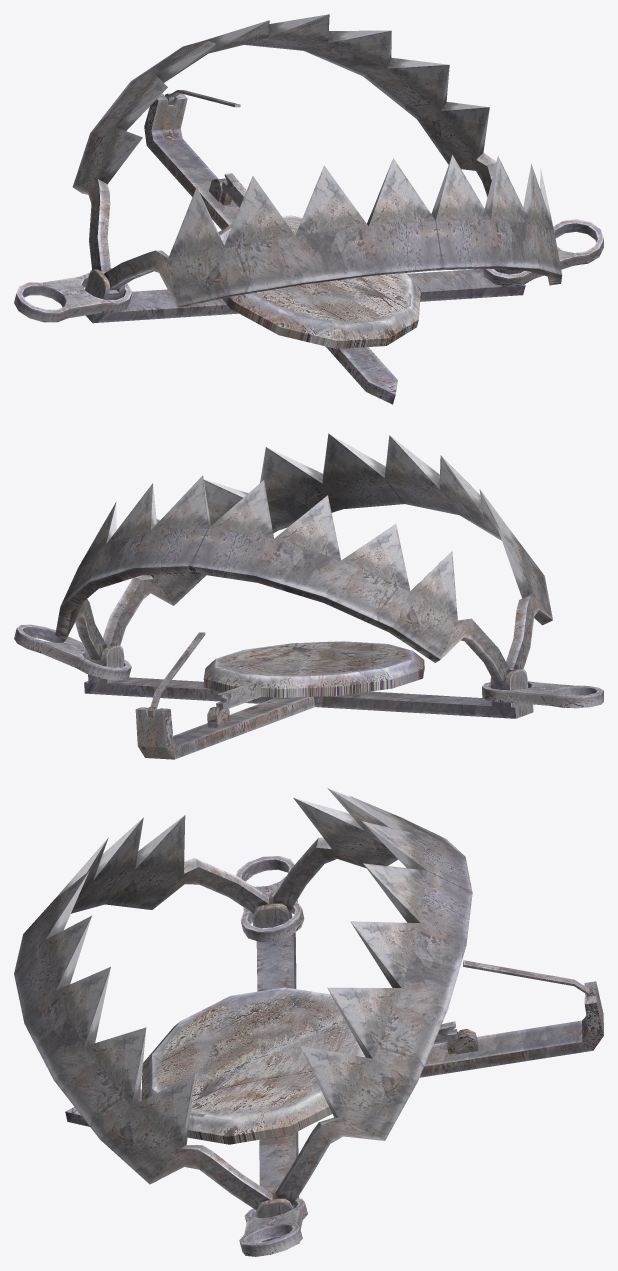
The picture shows the model from 3 angles, top to bottom: view 1: azimuth 30°, elevation 25°; view 2: azimuth 150°, elevation 25°; view 3: azimuth 270°, elevation 25°; orthographic projection. The views are drawn at different scales.
Visible parts, largest first — view 1: Trap_LeftSide, Trap_RightSide, Trap_Cross, Trap_Center, Trap_1, Trap_4; view 2: Trap_RightSide, Trap_LeftSide, Trap_Cross, Trap_Center, Trap_1, Trap_4, Trap_3; view 3: Trap_RightSide, Trap_LeftSide, Trap_Center, Trap_Cross, Trap_1, Trap_3.
Boxes of the visible parts, bbox=[...] form: Trap_LeftSide: bbox=[104, 155, 562, 307]; Trap_RightSide: bbox=[72, 14, 496, 273]; Trap_Cross: bbox=[84, 93, 525, 404]; Trap_Center: bbox=[218, 215, 420, 348]; Trap_1: bbox=[14, 219, 603, 322]; Trap_4: bbox=[220, 173, 246, 207]; Trap_RightSide: bbox=[55, 475, 510, 685]; Trap_LeftSide: bbox=[103, 433, 552, 670]; Trap_Cross: bbox=[84, 645, 533, 759]; Trap_Center: bbox=[203, 641, 424, 697]; Trap_1: bbox=[14, 624, 603, 708]; Trap_4: bbox=[215, 681, 263, 722]; Trap_3: bbox=[150, 632, 205, 713]; Trap_RightSide: bbox=[273, 788, 472, 1205]; Trap_LeftSide: bbox=[14, 815, 272, 1209]; Trap_Center: bbox=[142, 987, 365, 1144]; Trap_Cross: bbox=[65, 893, 603, 1243]; Trap_1: bbox=[236, 856, 307, 1256]; Trap_3: bbox=[463, 960, 592, 996].
Size of the model in its own units: 149 by 71.2 by 120.
1 material, 1 textured.
